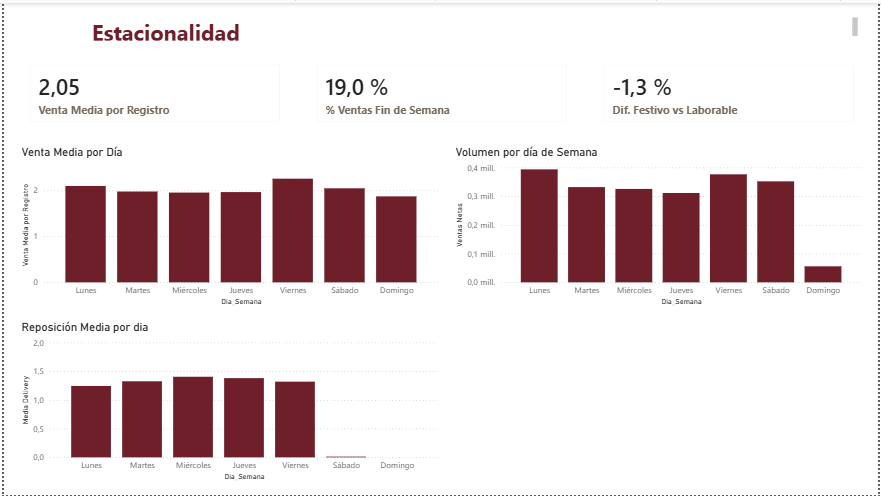

The dashboard page shown, as its layout file describes it:
{"tool":"powerbi","page":{"name":"Estacionalidad","canvas":[1280,720],"ordinal":3},"visuals":[{"type":"cardVisual","fields":{"Data":["TablaMaestra5.% Ventas Fin de Semana"]},"box":[440,72,400,120],"z":0},{"type":"cardVisual","fields":{"Data":["TablaMaestra5.Dif. Festivo vs Laborable"]},"box":[860,72,400,120],"z":1000},{"type":"textbox","box":[124,16,1130,44],"z":2000},{"type":"cardVisual","fields":{"Data":["TablaMaestra5.Venta Media por Registro"]},"box":[20,72,400,120],"z":3000},{"type":"clusteredColumnChart","title":"Venta Media por Día","fields":{"Category":["TablaMaestra5.Dia_Semana"],"Y":["TablaMaestra5.Venta Media por Registro"]},"box":[20.5,208,620,240],"z":4000},{"type":"clusteredColumnChart","title":"Volumen por día de Semana","fields":{"Category":["TablaMaestra5.Dia_Semana"],"Y":["TablaMaestra5.Ventas Netas"]},"box":[656,208,604,240],"z":5000},{"type":"clusteredColumnChart","title":"Reposición Media por dia","fields":{"Y":["TablaMaestra5.Media Delivery"],"Category":["TablaMaestra5.Dia_Semana"]},"box":[20,464,620,240],"z":6000}]}

Visuals, with their boxes in screenshot pixels (x1, y1, x2, y2), scaled from the page's 1280x720 canvas onto the 881x496 screenshot:
cardVisual - TablaMaestra5.% Ventas Fin de Semana: {"x1": 303, "y1": 50, "x2": 578, "y2": 132}
cardVisual - TablaMaestra5.Dif. Festivo vs Laborable: {"x1": 592, "y1": 50, "x2": 867, "y2": 132}
textbox: {"x1": 85, "y1": 11, "x2": 863, "y2": 41}
cardVisual - TablaMaestra5.Venta Media por Registro: {"x1": 14, "y1": 50, "x2": 289, "y2": 132}
"Venta Media por Día" clusteredColumnChart: {"x1": 14, "y1": 143, "x2": 441, "y2": 309}
"Volumen por día de Semana" clusteredColumnChart: {"x1": 452, "y1": 143, "x2": 867, "y2": 309}
"Reposición Media por dia" clusteredColumnChart: {"x1": 14, "y1": 320, "x2": 440, "y2": 485}
